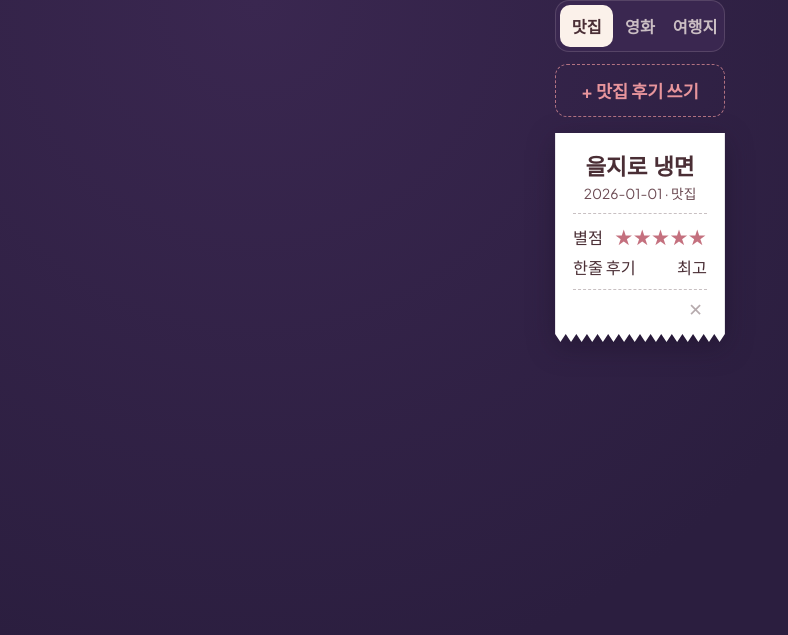
Test case: Archive › keeps the form folded until asked for
The width and height of the screenshot is (788, 635).
Expected: the field with placeholder "이름을 입력하세요" is not shown
What coordinates should you click on to do the following:
click the button "+ 맛집 후기 쓰기"
I would click on:
 (640, 90)
Its box is x1=555 y1=64 x2=725 y2=117.
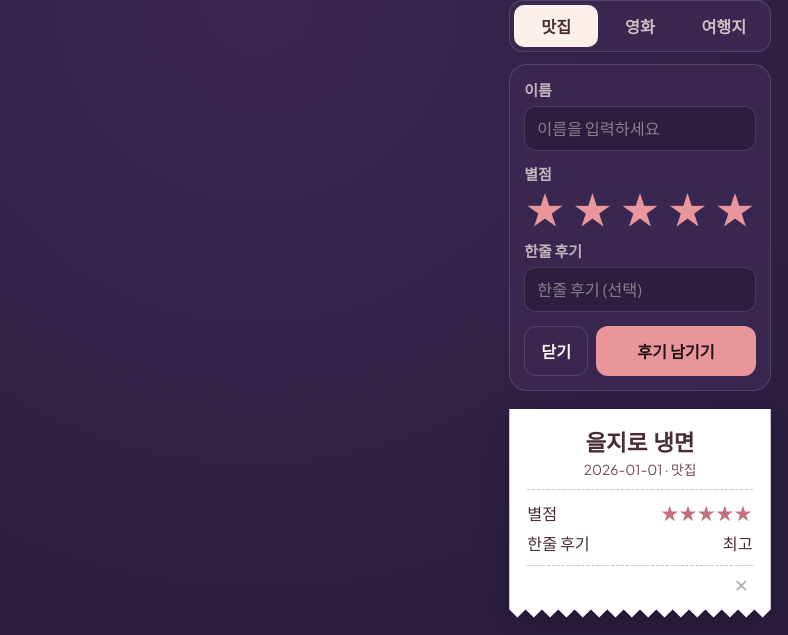
Result: the field with placeholder "이름을 입력하세요" is shown at x1=524 y1=106 x2=756 y2=151
